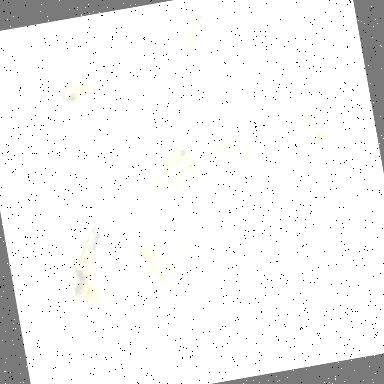abw: (275, 71, 344, 164), (140, 126, 216, 201), (54, 55, 119, 125), (170, 3, 224, 86), (134, 236, 194, 308), (64, 211, 121, 285), (194, 124, 262, 184), (67, 271, 128, 332)
